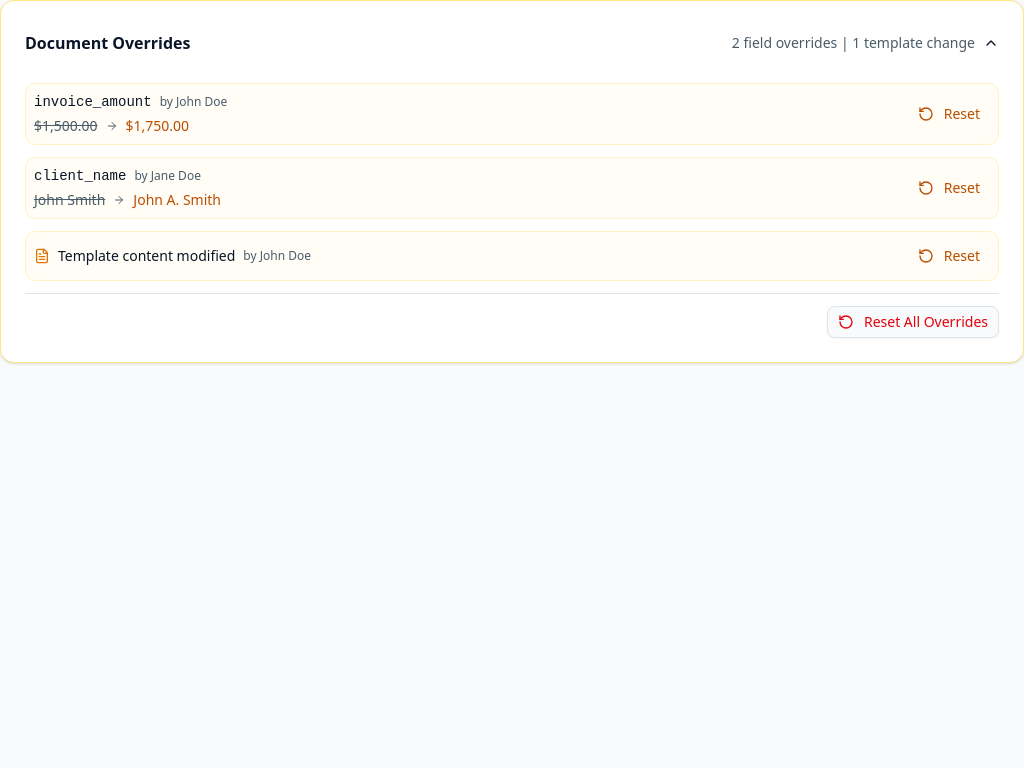
Test: OverrideManagementPanel › confirmation dialogs › should show confirmation before resetting field
Click the button "Reset" in the row of "$1,750.00" at (949, 114), box left=908, top=98, right=990, bottom=130
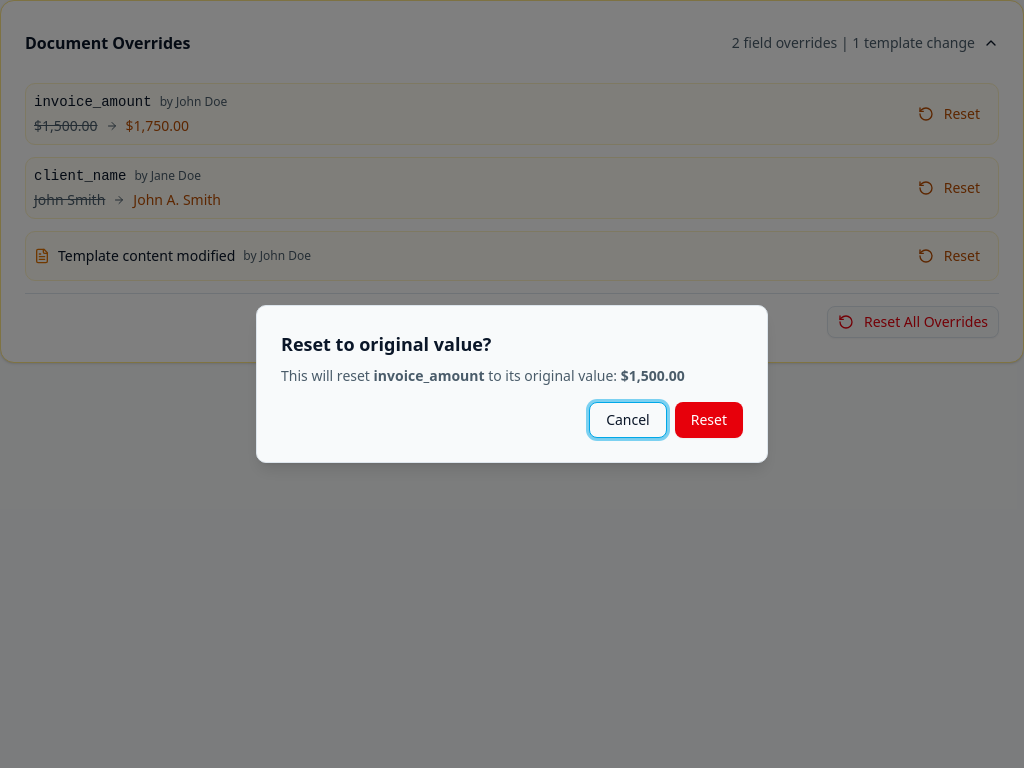
Now the heading "Reset to original value?" is shown, box left=281, top=332, right=491, bottom=356
